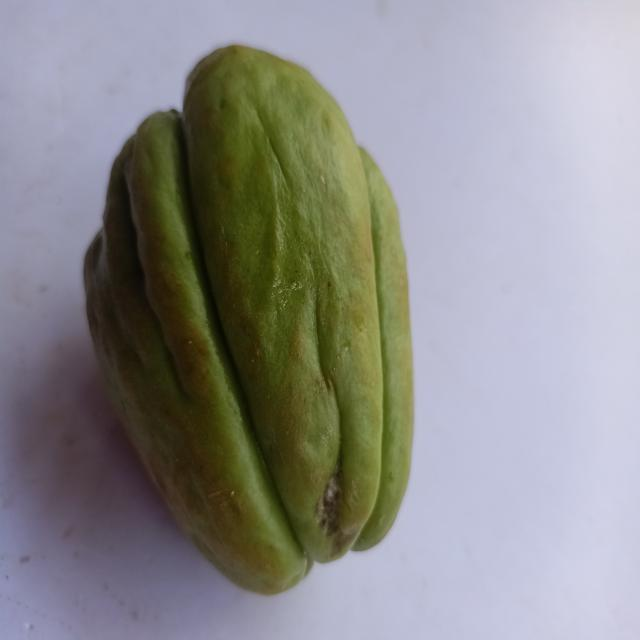Chayote: (68, 22, 440, 616)
